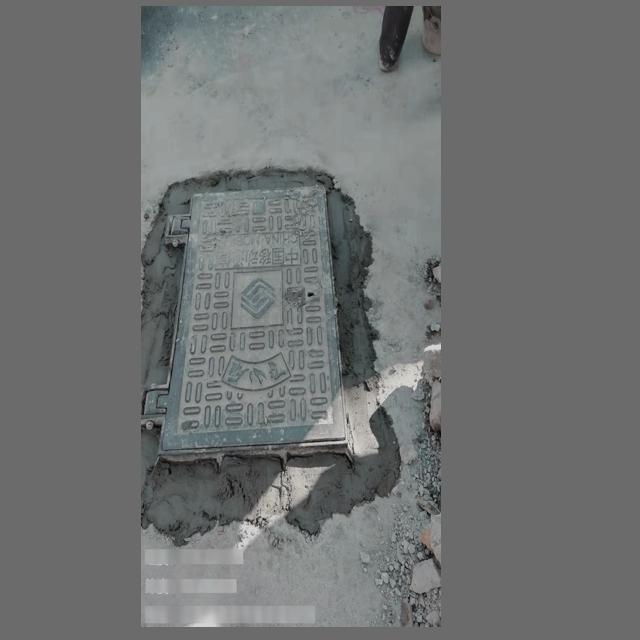good: (141, 185, 351, 461)
